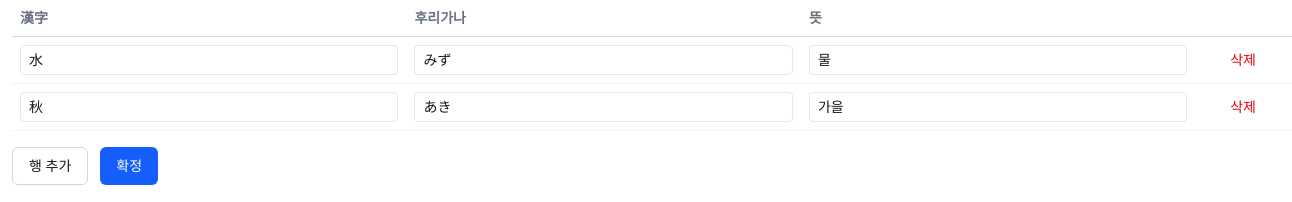
Test: ReviewEditor › 행 삭제를 누르면 행이 줄어든다
The width and height of the screenshot is (1292, 202).
Expected: the number of fields with placeholder "후리가나" is 2, [414,45,793,75]; [414,92,793,122]
Click the 1st button "삭제".
click(1243, 60)  # box [1230,50,1256,70]
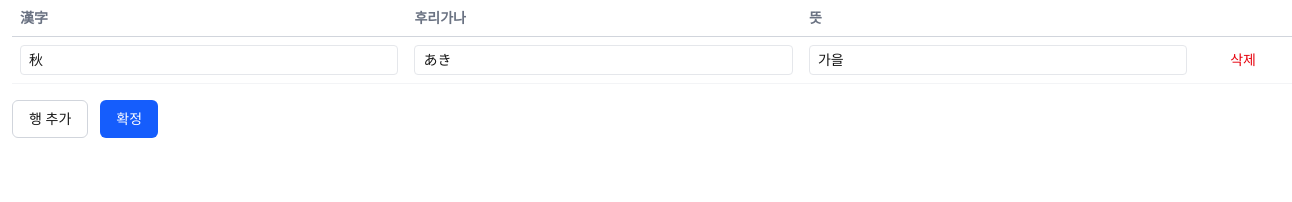
Now the number of fields with placeholder "후리가나" is 1, box [414,45,793,75]
